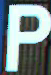Parking: (7, 4, 48, 74)
